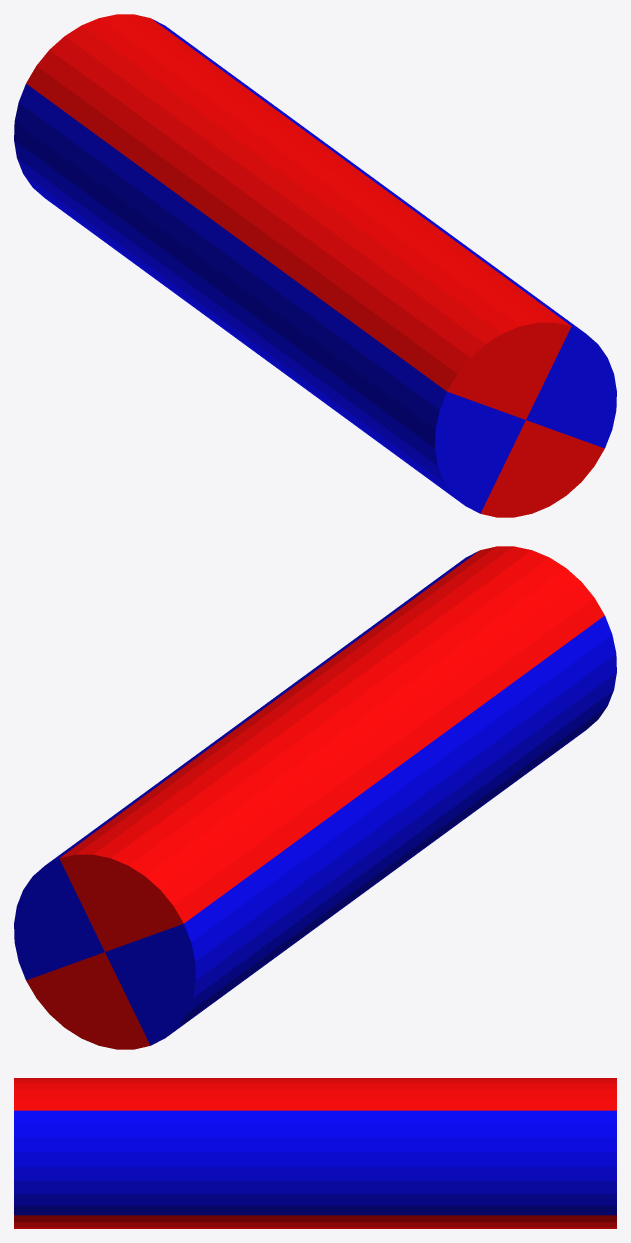
Rendered from DCblRotor2.glb.
3 views of the same model, one above another, from view 1: azimuth 30°, elevation 25°; view 2: azimuth 150°, elevation 25°; view 3: azimuth 270°, elevation 25° (orthographic). The views are drawn at different scales.
Visible parts, largest first — view 1: 円柱; view 2: 円柱; view 3: 円柱.
Part boxes in pixels (x1=…): 円柱: x1=14, y1=14, x2=616, y2=517; 円柱: x1=14, y1=546, x2=616, y2=1049; 円柱: x1=14, y1=1078, x2=616, y2=1228.
Bounding box in the file's own units: 0.9979 × 0.9979 × 4.
